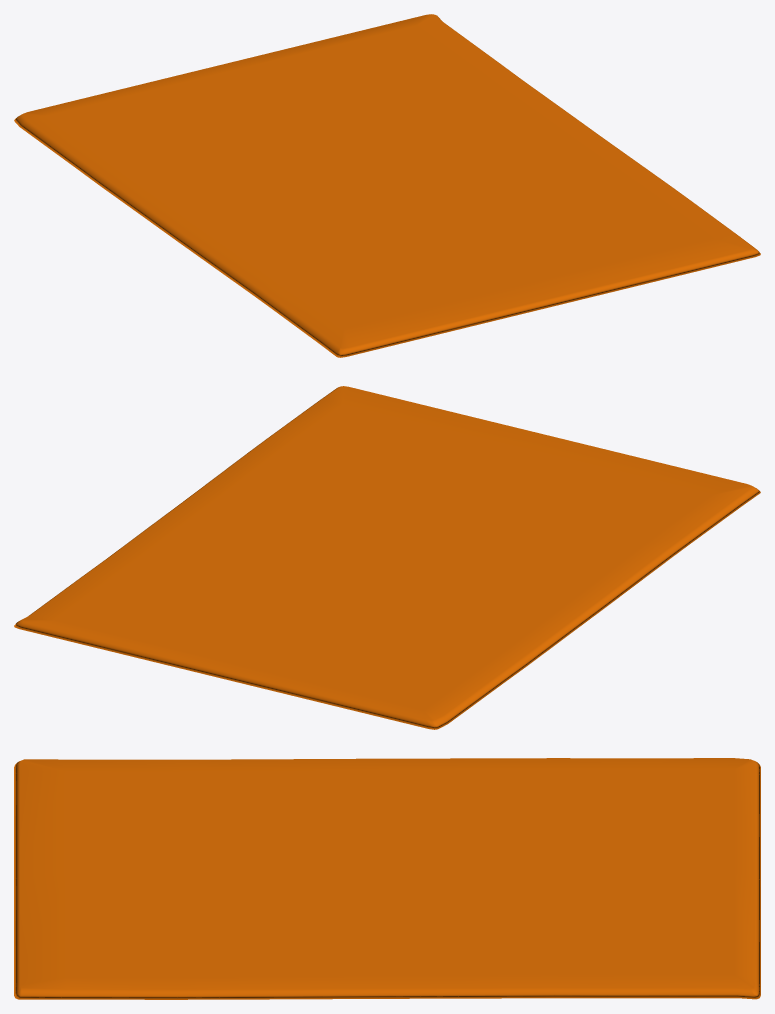
File: doormat_model_alvin_001.fbx
The picture shows the model from 3 angles, top to bottom: view 1: azimuth 30°, elevation 25°; view 2: azimuth 150°, elevation 25°; view 3: azimuth 270°, elevation 25°; orthographic projection. The views are drawn at different scales.
Parts seen in each view (by area): view 1: doormat; view 2: doormat; view 3: doormat.
Boxes of the visible parts, box(x1,y1,x2,y2) form: doormat: box(14, 14, 760, 357); doormat: box(14, 386, 760, 729); doormat: box(14, 758, 760, 999).
Bounding box in the file's own units: 338 × 4.73 × 449.
